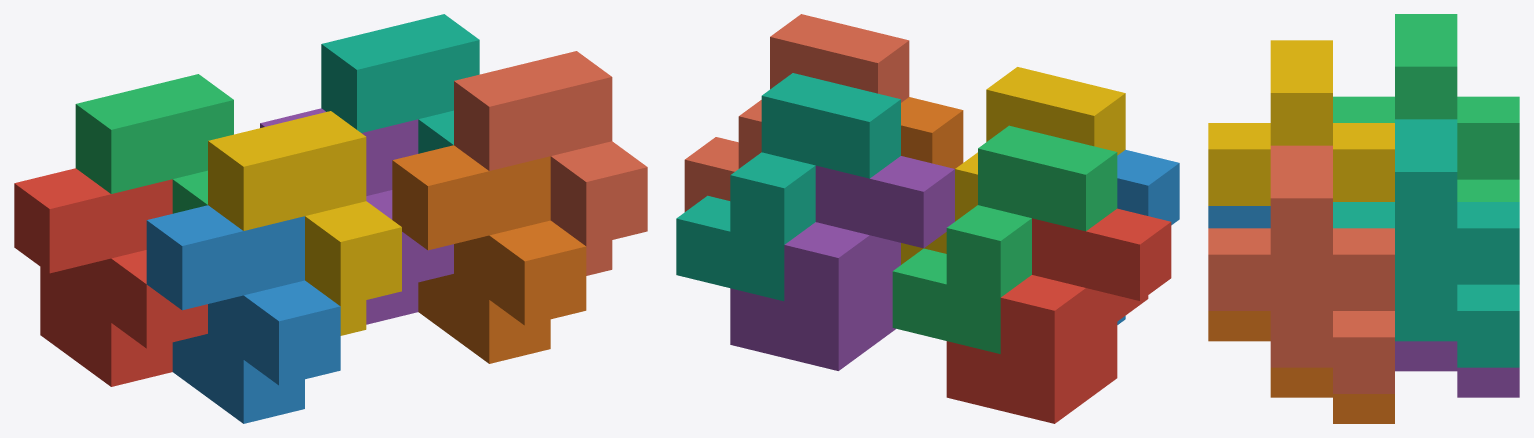
Rendered from tiling.obj.
3 views of the same model, side by side, from view 1: azimuth 30°, elevation 25°; view 2: azimuth 150°, elevation 25°; view 3: azimuth 270°, elevation 25° (orthographic). The views are drawn at different scales.
Visible parts, largest first — view 1: copy_1_domain_2, copy_1_domain_6, copy_1_domain_1, copy_1_domain_8, copy_1_domain_4, copy_1_domain_3, copy_1_domain_7, copy_1_domain_5; view 2: copy_1_domain_1, copy_1_domain_5, copy_1_domain_7, copy_1_domain_3, copy_1_domain_8, copy_1_domain_4, copy_1_domain_2, copy_1_domain_6; view 3: copy_1_domain_8, copy_1_domain_7, copy_1_domain_4, copy_1_domain_3, copy_1_domain_6, copy_1_domain_5, copy_1_domain_2.
Part boxes in pixels (box(x1,y1,x2,y2)): copy_1_domain_2: box(146, 205, 340, 423); copy_1_domain_6: box(392, 145, 586, 363); copy_1_domain_1: box(14, 168, 207, 386); copy_1_domain_8: box(454, 51, 647, 275); copy_1_domain_4: box(208, 111, 401, 335); copy_1_domain_3: box(75, 74, 233, 213); copy_1_domain_7: box(321, 14, 479, 153); copy_1_domain_5: box(260, 108, 453, 324); copy_1_domain_1: box(946, 208, 1171, 423); copy_1_domain_5: box(730, 156, 954, 370); copy_1_domain_7: box(676, 73, 900, 301); copy_1_domain_3: box(892, 125, 1117, 353); copy_1_domain_8: box(684, 14, 909, 211); copy_1_domain_4: box(901, 67, 1125, 264); copy_1_domain_2: box(1117, 149, 1179, 324); copy_1_domain_6: box(901, 97, 963, 168); copy_1_domain_8: box(1208, 145, 1394, 393); copy_1_domain_7: box(1333, 119, 1519, 367); copy_1_domain_4: box(1208, 40, 1394, 205); copy_1_domain_3: box(1333, 14, 1519, 201); copy_1_domain_6: box(1208, 311, 1394, 423); copy_1_domain_5: box(1395, 341, 1519, 397); copy_1_domain_2: box(1208, 206, 1270, 228).
Size of the model in its own units: 9 by 4 by 5.
